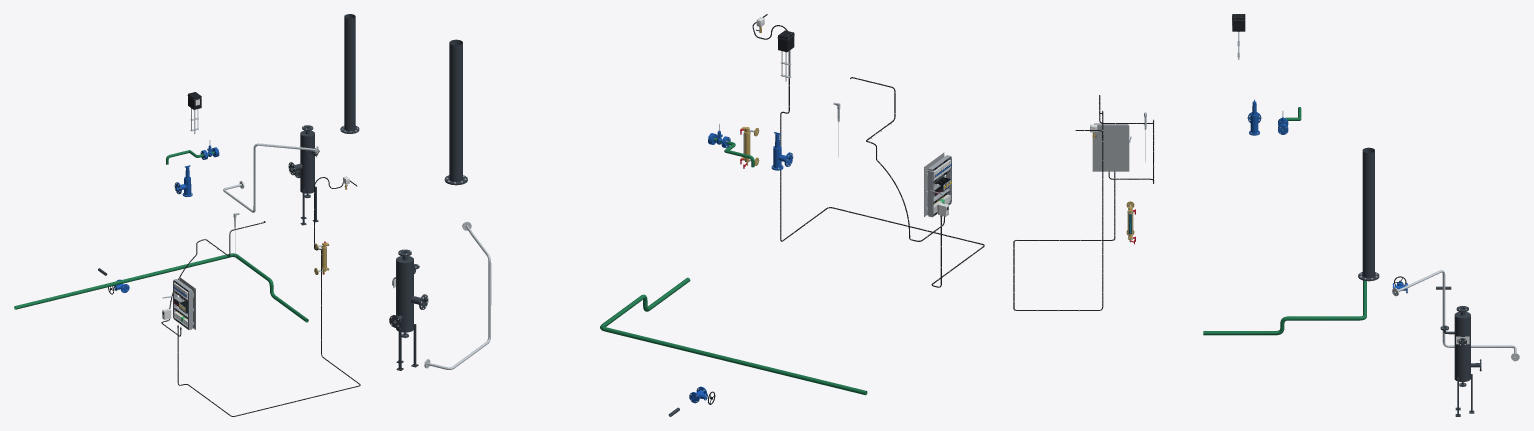
File: s4000-5-5fDtrTvc.glb
3 views of the same model, side by side, from view 1: azimuth 30°, elevation 25°; view 2: azimuth 150°, elevation 25°; view 3: azimuth 270°, elevation 25° (orthographic). The views are drawn at different scales.
Parts seen in each view (by area): view 1: bdv_vent / dark, suction_common / green, separator_fv8 / dark, cabinet_interior / cabinet_interior_0.npz, wiring_pressure_switch_1 / black, trap_gap_to_bdv / steel; view 2: separator_fv8 / dark, bdv_vent / dark, suction_common / green, cabinet_interior / cabinet_interior_0.npz, wiring_pressure_switch_1 / black, trap_gap_to_bdv / steel; view 3: bdv_vent / dark, cabinet_interior / cabinet_interior_0.npz, separator_fv8 / dark, suction_common / green, wiring_pressure_switch_1 / black, trap_gap_to_bdv / steel.
Part boxes in pixels (x1=…): bdv_vent / dark: x1=340, y1=14, x2=359, y2=133; suction_common / green: x1=14, y1=253, x2=308, y2=322; separator_fv8 / dark: x1=288, y1=125, x2=319, y2=225; cabinet_interior / cabinet_interior_0.npz: x1=162, y1=277, x2=195, y2=329; wiring_pressure_switch_1 / black: x1=177, y1=177, x2=360, y2=416; trap_gap_to_bdv / steel: x1=223, y1=143, x2=318, y2=212; separator_fv8 / dark: x1=389, y1=249, x2=428, y2=370; bdv_vent / dark: x1=444, y1=39, x2=467, y2=185; suction_common / green: x1=600, y1=277, x2=867, y2=395; cabinet_interior / cabinet_interior_0.npz: x1=924, y1=152, x2=951, y2=217; wiring_pressure_switch_1 / black: x1=752, y1=14, x2=984, y2=287; trap_gap_to_bdv / steel: x1=424, y1=221, x2=491, y2=369; bdv_vent / dark: x1=1358, y1=147, x2=1379, y2=281; cabinet_interior / cabinet_interior_0.npz: x1=1092, y1=123, x2=1131, y2=171; separator_fv8 / dark: x1=1440, y1=306, x2=1481, y2=416; suction_common / green: x1=1203, y1=280, x2=1366, y2=335; wiring_pressure_switch_1 / black: x1=1013, y1=110, x2=1115, y2=310; trap_gap_to_bdv / steel: x1=1392, y1=270, x2=1519, y2=361.
Size of the model in its own units: 5.91 by 4.12 by 6.74.
